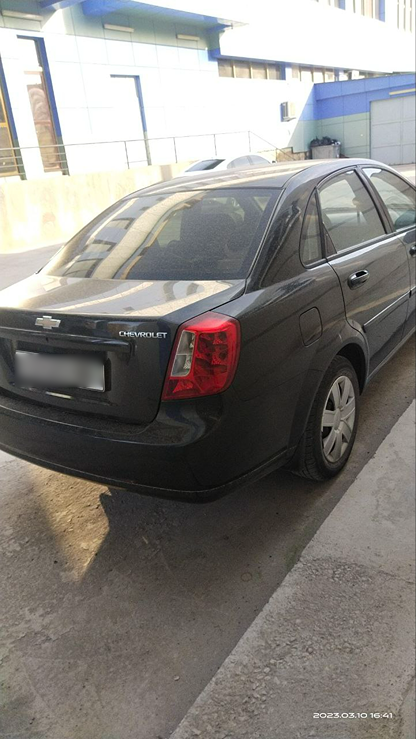car: (1, 139, 416, 525)
